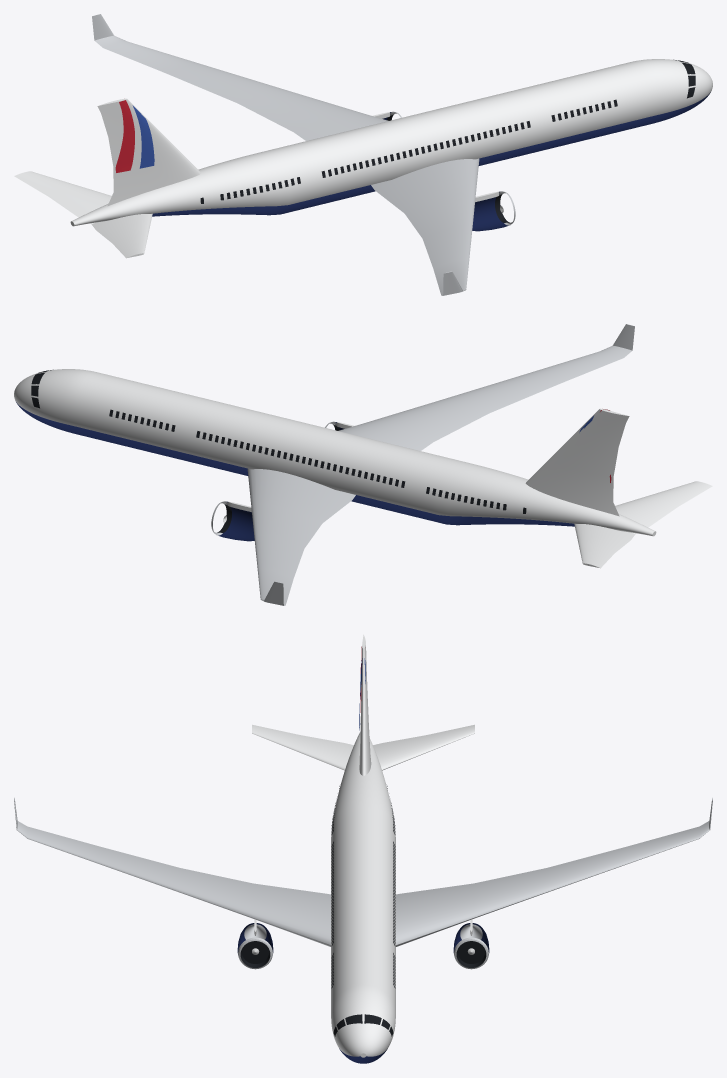
3 renders of one model, top to bottom at view 1: azimuth 30°, elevation 25°; view 2: azimuth 150°, elevation 25°; view 3: azimuth 270°, elevation 25°, orthographic.
Visible parts, largest first — view 1: Fuselage, Wings, Fin, Stabilisers, FinLivery, Engines; view 2: Fuselage, Wings, Fin, Stabilisers, Engines; view 3: Fuselage, Wings, Stabilisers, Engines, Fin.
Part boxes in pixels (x1,y1,x2,y2): Fuselage: (70, 59, 712, 226); Wings: (92, 14, 479, 295); Fin: (97, 98, 200, 206); Stabilisers: (14, 171, 152, 258); FinLivery: (115, 100, 154, 172); Engines: (372, 111, 515, 231); Fuselage: (14, 369, 656, 536); Wings: (247, 324, 634, 605); Fin: (525, 408, 629, 516); Stabilisers: (574, 481, 712, 568); Engines: (211, 421, 354, 541); Fuselage: (331, 732, 395, 1063); Wings: (14, 797, 712, 946); Stabilisers: (252, 724, 474, 770); Engines: (237, 919, 489, 969); Fin: (359, 634, 371, 775).
Size of the model in its own units: 40.14 by 9.89 by 38.21.
